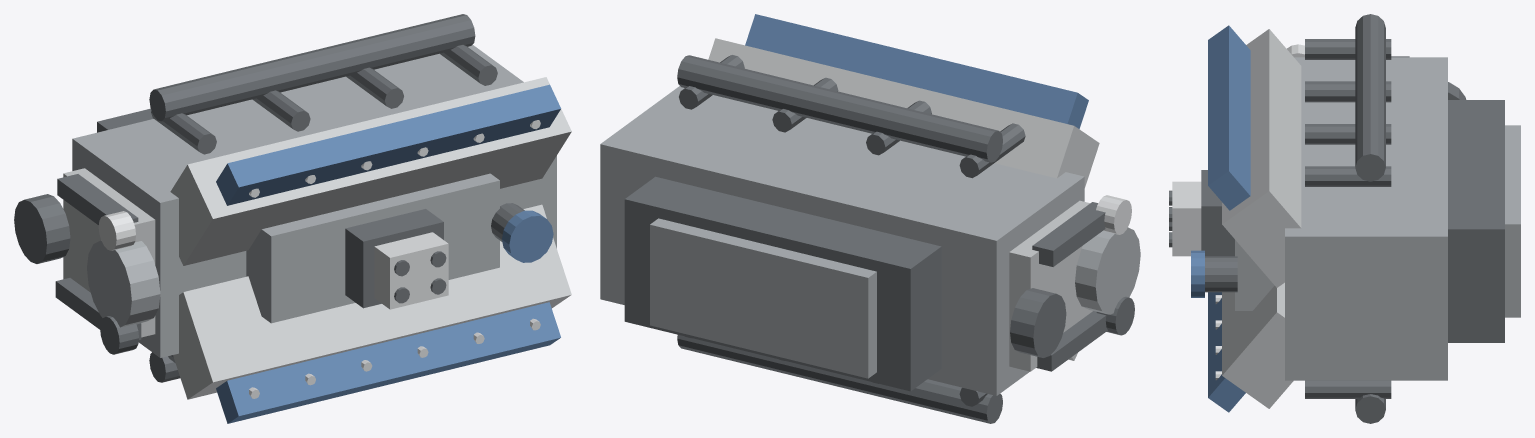
File: engine-v8-327.glb
The picture shows the model from 3 angles, left to right: view 1: azimuth 30°, elevation 25°; view 2: azimuth 150°, elevation 25°; view 3: azimuth 270°, elevation 25°; orthographic projection. The views are drawn at different scales.
Visible parts, largest first — view 1: engine_block_327, cylinder_head_-1, cylinder_head_1, intake_manifold, valve_cover_-1, valve_cover_1, exhaust_collector_1, water_pump_housing, carburetor, carburetor_base, timing_cover, crank_pulley (+12 smaller); view 2: engine_block_327, oil_pan_sump_detail, oil_pan_327, valve_cover_1, exhaust_collector_1, cylinder_head_1, exhaust_collector_-1, timing_cover, water_pump_housing, crank_pulley, accessory_bracket_right, accessory_bracket_left (+6 smaller); view 3: engine_block_327, oil_pan_327, cylinder_head_1, valve_cover_1, cylinder_head_-1, exhaust_collector_1, oil_pan_sump_detail, carburetor, valve_cover_-1, carburetor_base, intake_manifold, exhaust_runner_-1_3 (+7 smaller).
Part boxes in pixels (<box>): engine_block_327: <box>72,44,556,357</box>; cylinder_head_-1: <box>173,204,571,399</box>; cylinder_head_1: <box>170,77,571,265</box>; intake_manifold: <box>246,173,499,323</box>; valve_cover_-1: <box>216,302,560,423</box>; valve_cover_1: <box>216,84,560,205</box>; exhaust_collector_1: <box>149,14,475,121</box>; water_pump_housing: <box>87,240,160,327</box>; carburetor: <box>374,232,448,309</box>; carburetor_base: <box>345,209,443,308</box>; timing_cover: <box>63,168,155,337</box>; crank_pulley: <box>14,194,70,263</box>; engine_block_327: <box>600,86,1084,395</box>; oil_pan_sump_detail: <box>650,218,876,378</box>; oil_pan_327: <box>624,176,941,391</box>; valve_cover_1: <box>745,14,1088,128</box>; exhaust_collector_1: <box>677,55,1002,162</box>; cylinder_head_1: <box>708,38,1099,187</box>; exhaust_collector_-1: <box>677,335,1002,423</box>; timing_cover: <box>1009,200,1092,371</box>; water_pump_housing: <box>1075,227,1140,314</box>; crank_pulley: <box>1010,288,1066,357</box>; accessory_bracket_right: <box>1032,202,1105,266</box>; accessory_bracket_left: <box>1036,311,1107,371</box>; engine_block_327: <box>1285,57,1447,380</box>; oil_pan_327: <box>1448,100,1504,342</box>; cylinder_head_1: <box>1222,29,1301,287</box>; valve_cover_1: <box>1208,25,1250,210</box>; cylinder_head_-1: <box>1222,282,1293,408</box>; exhaust_collector_1: <box>1355,14,1385,181</box>; oil_pan_sump_detail: <box>1505,125,1520,317</box>; carburetor: <box>1172,181,1201,256</box>; valve_cover_-1: <box>1208,292,1245,412</box>; carburetor_base: <box>1201,170,1234,256</box>; intake_manifold: <box>1235,240,1274,310</box>; exhaust_runner_-1_3: <box>1305,380,1391,398</box>.
Bounding box in the file's own units: 3.41 × 2.14 × 2.53.
